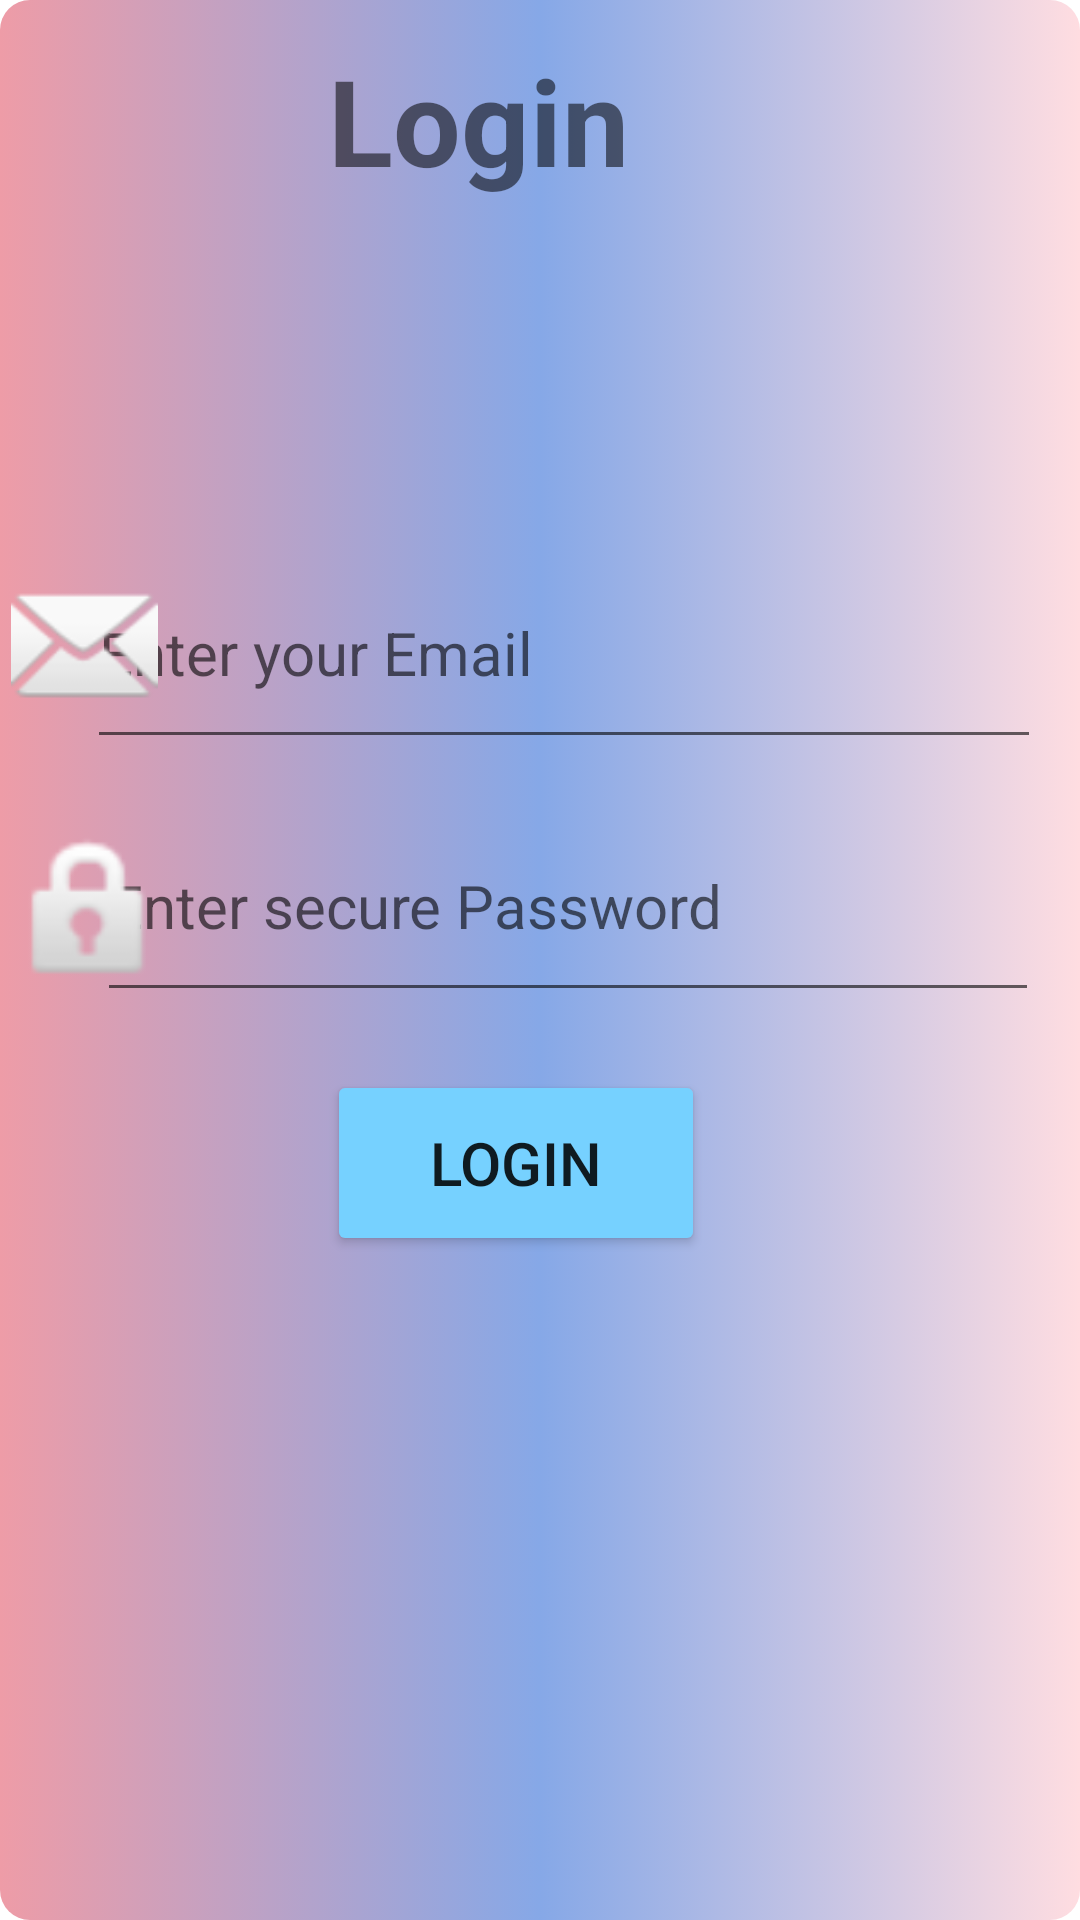

Point at icon controls on the screen. Image size 1080x1920, points as (x=x, y=y).
lock idle: (x=92, y=913)
